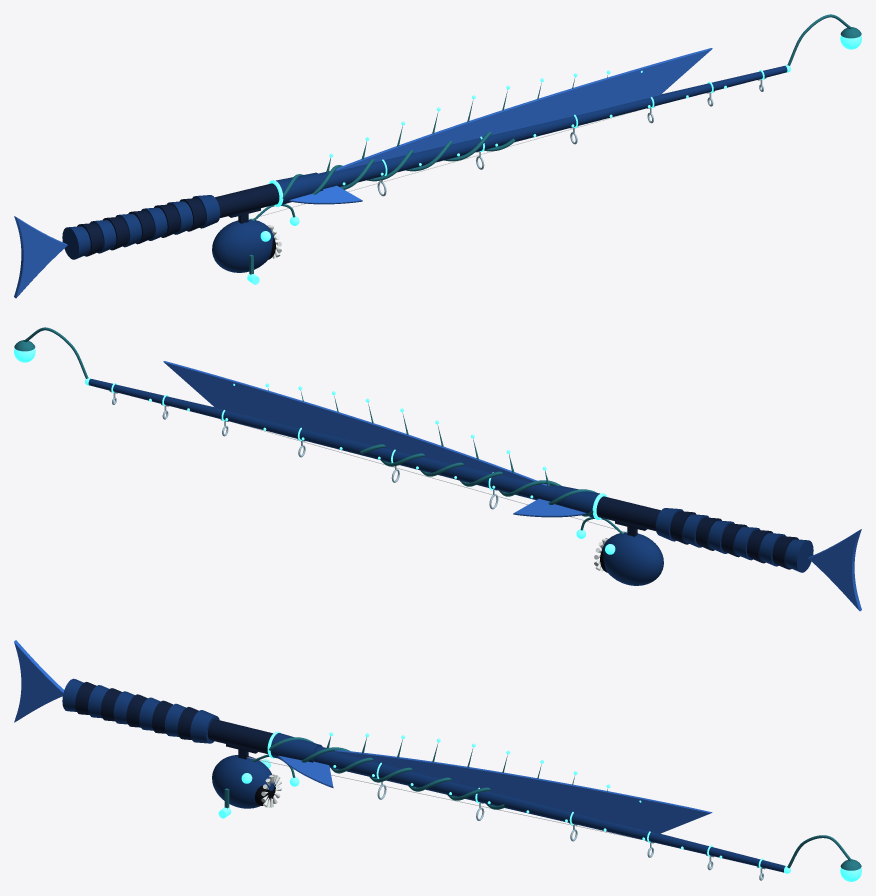
Rendered from ROD_ABYSSAL.glb.
The picture shows the model from 3 angles, top to bottom: view 1: azimuth 30°, elevation 25°; view 2: azimuth 150°, elevation 25°; view 3: azimuth 330°, elevation 25°; orthographic projection.
Visible parts, largest first — view 1: dorsal_fin, blank, angler_head, tail_fin, reel_seat, fore_grip, pectoral_l, scale_ring_0, tentacle, tentacle_b; view 2: dorsal_fin, blank, angler_head, tail_fin, reel_seat, pectoral_r, fore_grip, scale_ring_0, tentacle_b, tentacle; view 3: dorsal_fin, blank, angler_head, tail_fin, reel_seat, fore_grip, pectoral_l, scale_ring_10, tentacle, tentacle_b.
Part boxes in pixels (x1=…): dorsal_fin: x1=329, y1=48, x2=712, y2=172; blank: x1=319, y1=66, x2=787, y2=188; angler_head: x1=212, y1=219, x2=274, y2=272; tail_fin: x1=14, y1=216, x2=67, y2=298; reel_seat: x1=215, y1=183, x2=279, y2=217; fore_grip: x1=276, y1=172, x2=323, y2=204; pectoral_l: x1=289, y1=185, x2=362, y2=204; scale_ring_0: x1=62, y1=226, x2=90, y2=259; tentacle: x1=282, y1=138, x2=515, y2=198; tentacle_b: x1=312, y1=132, x2=492, y2=194; dorsal_fin: x1=163, y1=361, x2=546, y2=485; blank: x1=88, y1=379, x2=556, y2=501; angler_head: x1=601, y1=532, x2=663, y2=585; tail_fin: x1=808, y1=529, x2=861, y2=611; reel_seat: x1=596, y1=496, x2=660, y2=530; pectoral_r: x1=513, y1=498, x2=586, y2=517; fore_grip: x1=552, y1=485, x2=599, y2=517; scale_ring_0: x1=785, y1=539, x2=813, y2=572; tentacle_b: x1=360, y1=444, x2=593, y2=516; tentacle: x1=381, y1=453, x2=596, y2=504; dorsal_fin: x1=333, y1=750, x2=712, y2=834; blank: x1=313, y1=746, x2=785, y2=872; angler_head: x1=212, y1=755, x2=274, y2=808; tail_fin: x1=14, y1=640, x2=64, y2=722; reel_seat: x1=207, y1=719, x2=272, y2=753; fore_grip: x1=270, y1=733, x2=322, y2=762; pectoral_l: x1=278, y1=755, x2=333, y2=788; scale_ring_10: x1=190, y1=710, x2=219, y2=743; tentacle: x1=269, y1=737, x2=505, y2=809; tentacle_b: x1=301, y1=747, x2=490, y2=800.
Size of the model in its own units: 1.98 by 0.2713 by 0.1282.
